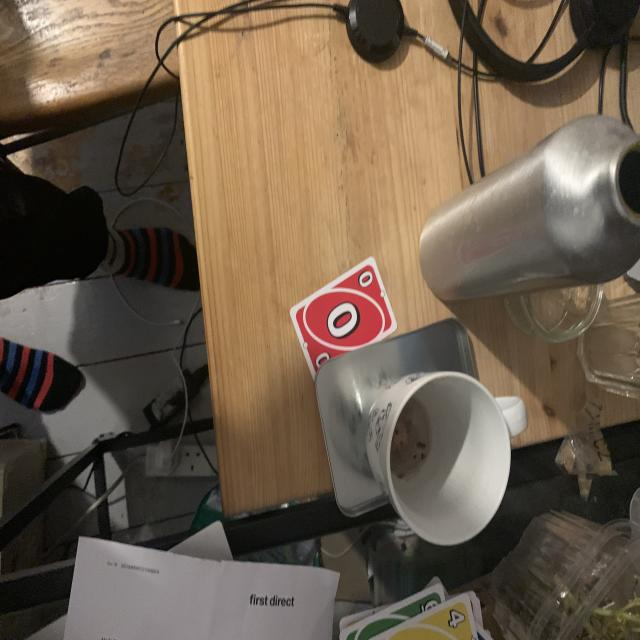lred-0: (355, 269, 377, 290)
